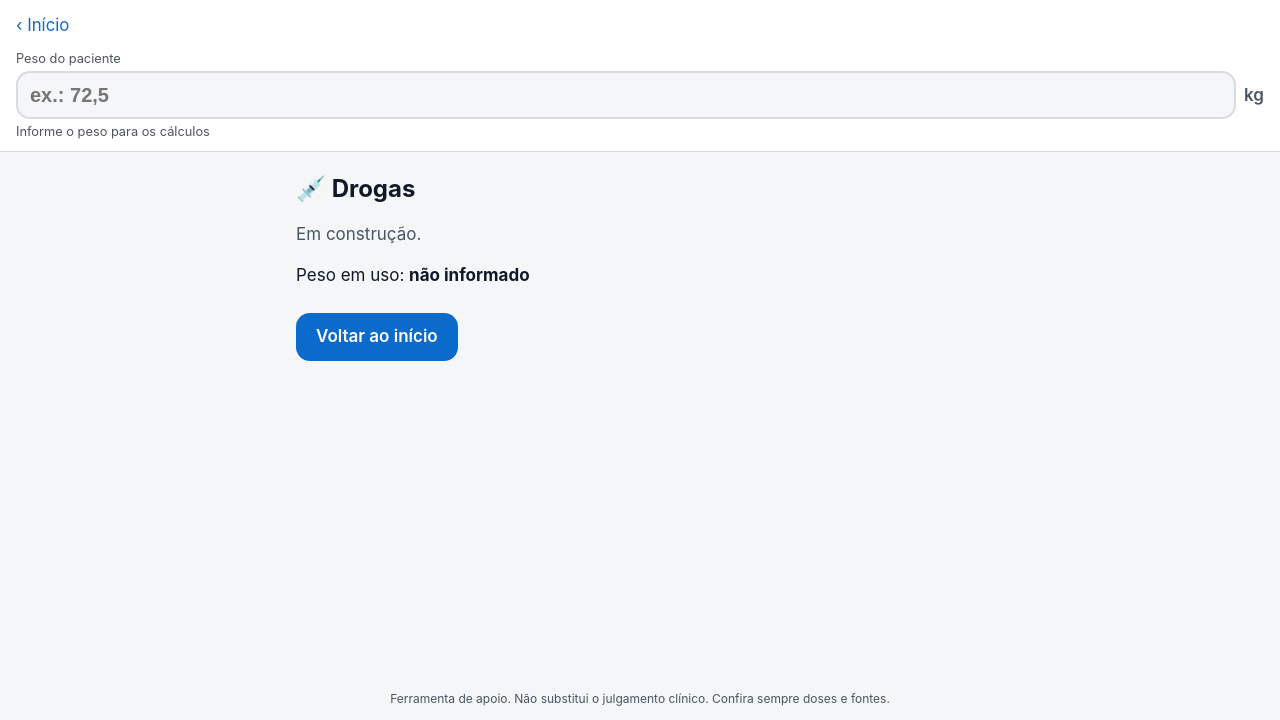
peso do paciente › mostra erro para peso fora da faixa e não o usa
The image size is (1280, 720).
Type "700" into the field labelled "Peso do paciente" at (626, 95), box [16,71,1236,119]
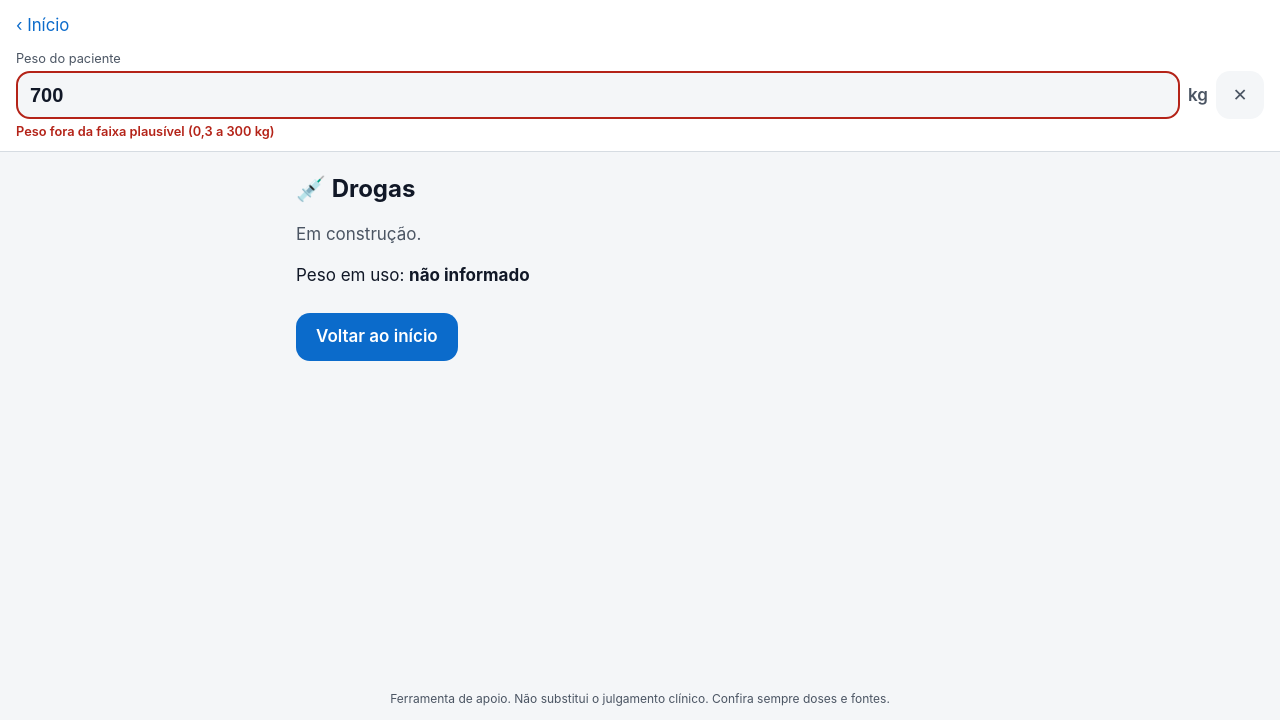
Expected: the text "não informado" is shown, [409,265,530,285]
Result: the text "Peso fora da faixa plausível (0,3 a 300 kg)" is shown at [16,124,274,139]
